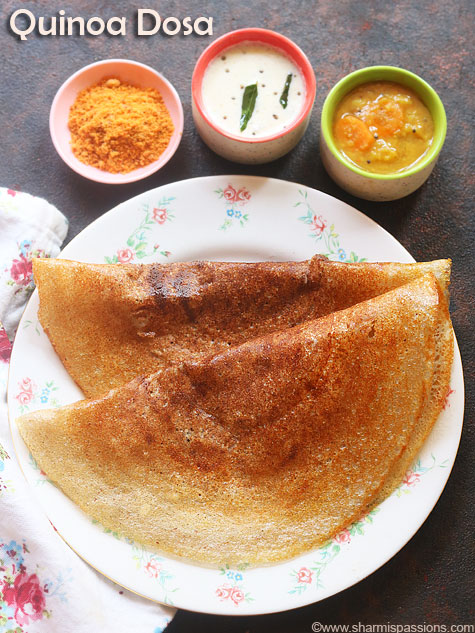dosa: (2, 230, 465, 573)
